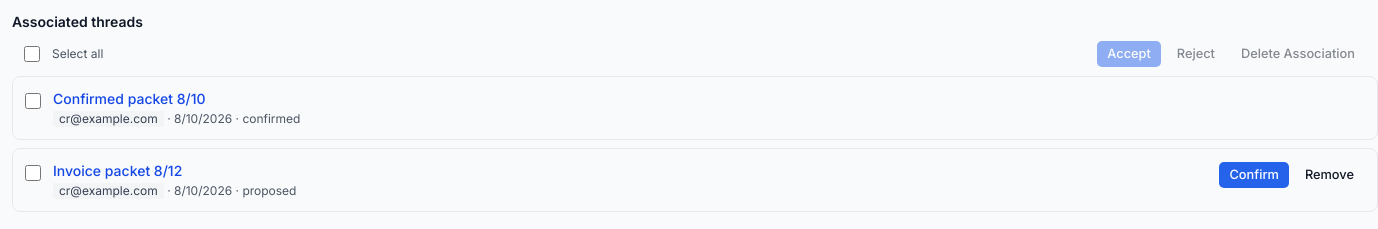
Test: AssociatedThreadsList › disables bulk actions when both confirmed and proposed rows are selected
Click the checkbox named "Select associated thread Confirmed packet 8/10" at (33, 101), box [25,93,41,109]
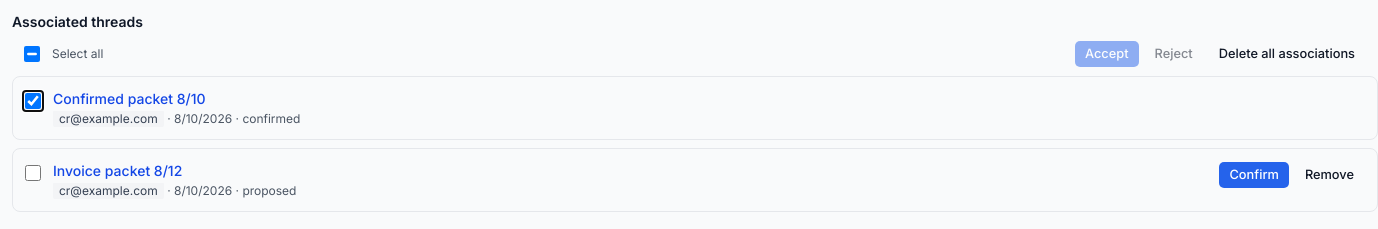
Click the checkbox named "Select associated thread Invoice packet 8/12" at (33, 173), box [25,165,41,181]
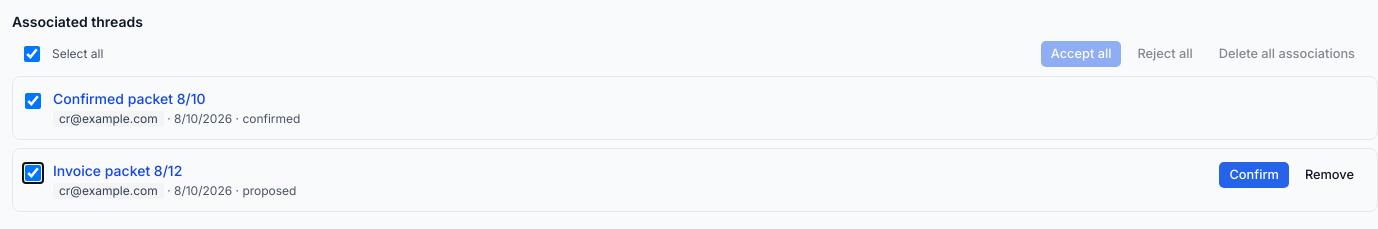
Expected: the button "Accept all" is disabled, [1040,40,1122,68]
Now the button "Delete all associations" is disabled, box [1208,40,1366,68]
